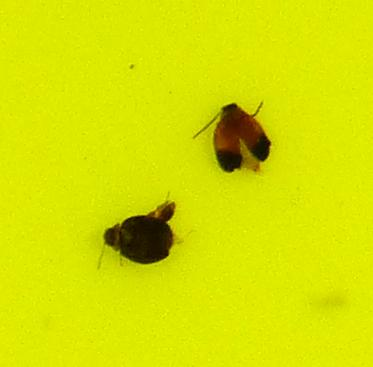Coleoptera: (194, 100, 273, 175), (100, 199, 179, 267)
